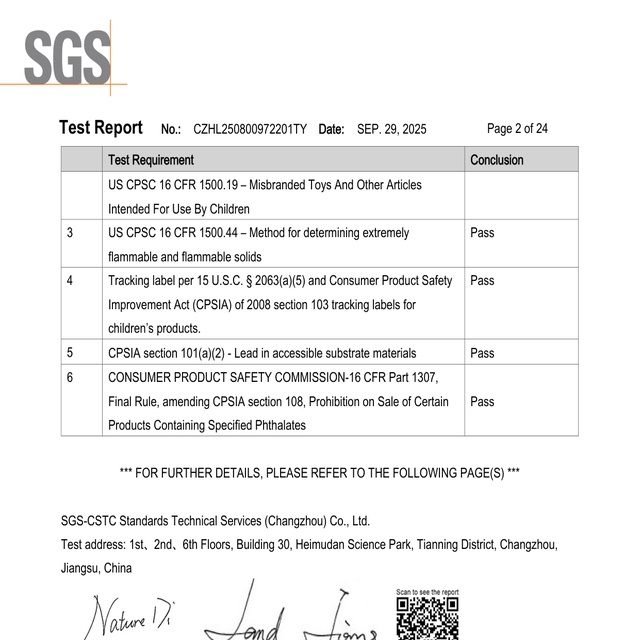sgs: (25, 30, 112, 86)
